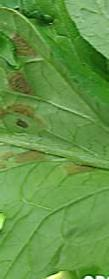Tomato mold leaf: (0, 34, 109, 279)
